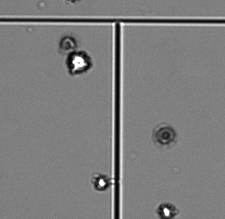Dead Cell: (153, 124, 177, 146), (57, 35, 78, 52), (63, 1, 83, 6)
Living Cell: (66, 50, 93, 76), (92, 172, 112, 192), (157, 202, 178, 216)
